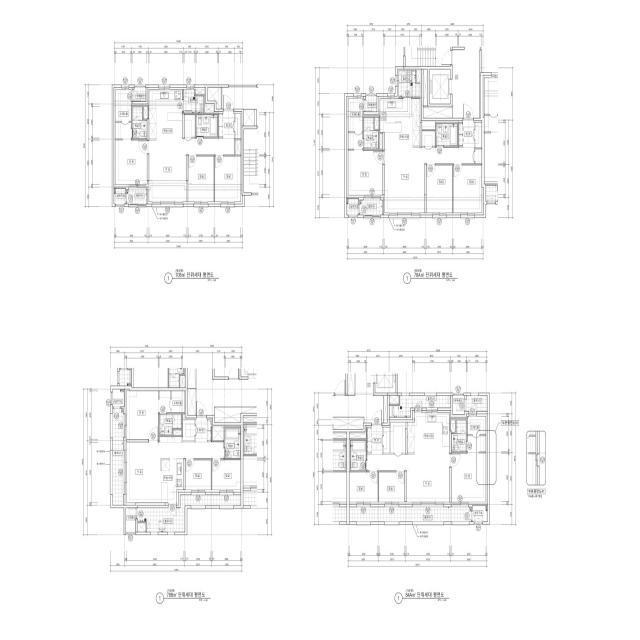space_balconi: (138, 495, 241, 532), (349, 507, 471, 522), (389, 396, 451, 417), (113, 408, 123, 505), (399, 71, 420, 97), (184, 90, 204, 113), (360, 198, 382, 215), (127, 188, 147, 204), (466, 396, 487, 411)
space_bedroom: (452, 453, 486, 502), (348, 151, 382, 195), (127, 391, 158, 439), (116, 140, 147, 185), (453, 165, 482, 213), (426, 165, 452, 213), (188, 156, 214, 202), (215, 156, 241, 202), (349, 472, 378, 502), (212, 460, 241, 490), (379, 472, 405, 502), (185, 460, 211, 490)
space_dressroom: (348, 99, 363, 149), (116, 90, 131, 139), (468, 416, 486, 452), (159, 391, 184, 413)
space_elevator: (430, 69, 450, 104)
space_elevator_hall: (452, 50, 480, 118)
space_front: (367, 425, 383, 454), (459, 119, 474, 147), (219, 110, 234, 138), (196, 417, 211, 442)
space_kitchen: (380, 98, 420, 146), (407, 413, 450, 453), (149, 90, 183, 139), (160, 458, 183, 503)
space_living_room: (127, 437, 224, 503), (384, 146, 474, 213), (149, 138, 234, 202), (367, 454, 450, 502)
space_other: (391, 422, 405, 453), (423, 107, 452, 118), (208, 88, 221, 109), (183, 420, 195, 441), (184, 115, 195, 137), (126, 508, 136, 532), (453, 396, 464, 415), (364, 96, 377, 112), (422, 131, 435, 146), (244, 109, 255, 126), (133, 87, 146, 101), (423, 69, 428, 105), (475, 123, 482, 148), (212, 427, 224, 441), (384, 428, 390, 453), (235, 114, 241, 139), (475, 149, 482, 164), (349, 433, 366, 439), (235, 140, 241, 155), (384, 396, 387, 423), (389, 396, 399, 404), (138, 523, 146, 532), (205, 105, 213, 113), (195, 89, 205, 95), (143, 107, 148, 119), (451, 420, 455, 432), (375, 117, 379, 129), (173, 430, 182, 435), (416, 71, 420, 82), (380, 134, 382, 149)
space_outdoor_room: (472, 506, 487, 522), (113, 389, 124, 407), (347, 199, 359, 215), (114, 188, 126, 204)
space_toilet: (350, 440, 366, 471), (196, 115, 218, 137), (436, 124, 458, 146), (159, 414, 182, 435), (225, 428, 241, 458), (364, 117, 379, 149), (132, 107, 147, 139), (452, 420, 466, 452)
